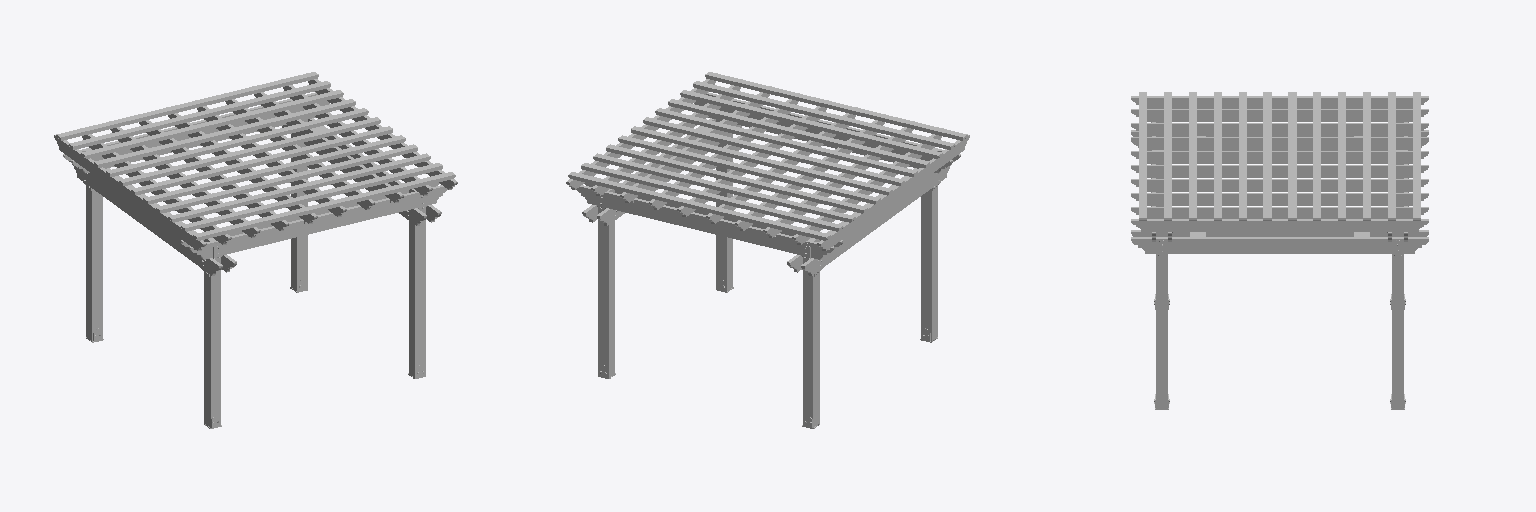
Rendered from santa-monica-12x12-classic.obj.
The picture shows the model from 3 angles: view 1: azimuth 30°, elevation 25°; view 2: azimuth 150°, elevation 25°; view 3: azimuth 270°, elevation 25°; orthographic projection.
Parts seen in each view (by area): view 1: Mesh126 Component_19_1 Group27 Group1 Model, Mesh165 Component_95_3 Group1 Model, Mesh178 Component_95_4 Group1 Model, Mesh164 Component_95_2 Group1 Model, Mesh186 Component_4_8 Group1 Model, Mesh179 Component_4_1 Group1 Model, Mesh182 Component_4_4 Group1 Model, Mesh190 Component_4_12 Group1 Model, Mesh180 Component_4_2 Group1 Model, Mesh188 Component_4_10 Group1 Model, Mesh189 Component_4_11 Group1 Model, Mesh181 Component_4_3 Group1 Model (+17 smaller); view 2: Mesh140 Component_19_3 Group33 Group1 Model, Mesh159 Component_95_1 Group1 Model, Mesh164 Component_95_2 Group1 Model, Mesh178 Component_95_4 Group1 Model, Mesh180 Component_4_2 Group1 Model, Mesh190 Component_4_12 Group1 Model, Mesh179 Component_4_1 Group1 Model, Mesh185 Component_4_7 Group1 Model, Mesh186 Component_4_8 Group1 Model, Mesh187 Component_4_9 Group1 Model, Mesh189 Component_4_11 Group1 Model, Mesh182 Component_4_4 Group1 Model (+17 smaller); view 3: Mesh158 Component_6_4 Group39 Group1 Model, Mesh146 Component_10_8 Group35 Group1 Model, Mesh152 Component_10_9 Group37 Group1 Model, Mesh105 Component_10_1 Group22 Group1 Model, Mesh110 Component_10_2 Group23 Group1 Model, Mesh115 Component_10_3 Group24 Group1 Model, Mesh120 Component_10_4 Group25 Group1 Model, Mesh125 Component_10_5 Group26 Group1 Model, Mesh131 Component_10_6 Group28 Group1 Model, Mesh157 Component_10_10 Group38 Group1 Model, Mesh139 Component_10_7 Group32 Group1 Model, Mesh159 Component_95_1 Group1 Model (+14 smaller).
Part boxes in pixels (bbox=[...]): Mesh126 Component_19_1 Group27 Group1 Model: bbox=[189, 185, 447, 259]; Mesh165 Component_95_3 Group1 Model: bbox=[409, 189, 425, 377]; Mesh178 Component_95_4 Group1 Model: bbox=[204, 238, 220, 427]; Mesh164 Component_95_2 Group1 Model: bbox=[86, 149, 102, 341]; Mesh186 Component_4_8 Group1 Model: bbox=[168, 153, 430, 222]; Mesh179 Component_4_1 Group1 Model: bbox=[143, 135, 405, 204]; Mesh182 Component_4_4 Group1 Model: bbox=[106, 108, 368, 176]; Mesh190 Component_4_12 Group1 Model: bbox=[81, 90, 343, 158]; Mesh180 Component_4_2 Group1 Model: bbox=[193, 172, 455, 240]; Mesh188 Component_4_10 Group1 Model: bbox=[69, 81, 330, 149]; Mesh189 Component_4_11 Group1 Model: bbox=[56, 72, 318, 140]; Mesh181 Component_4_3 Group1 Model: bbox=[131, 126, 392, 195]; Mesh140 Component_19_3 Group33 Group1 Model: bbox=[576, 185, 834, 259]; Mesh159 Component_95_1 Group1 Model: bbox=[598, 189, 614, 377]; Mesh164 Component_95_2 Group1 Model: bbox=[803, 238, 819, 427]; Mesh178 Component_95_4 Group1 Model: bbox=[921, 149, 937, 341]; Mesh180 Component_4_2 Group1 Model: bbox=[705, 72, 967, 140]; Mesh190 Component_4_12 Group1 Model: bbox=[593, 153, 855, 222]; Mesh179 Component_4_1 Group1 Model: bbox=[655, 108, 917, 176]; Mesh185 Component_4_7 Group1 Model: bbox=[668, 99, 929, 167]; Mesh186 Component_4_8 Group1 Model: bbox=[680, 90, 942, 158]; Mesh187 Component_4_9 Group1 Model: bbox=[606, 144, 867, 213]; Mesh189 Component_4_11 Group1 Model: bbox=[568, 172, 830, 240]; Mesh182 Component_4_4 Group1 Model: bbox=[618, 135, 880, 204]; Mesh158 Component_6_4 Group39 Group1 Model: bbox=[1131, 237, 1428, 253]; Mesh146 Component_10_8 Group35 Group1 Model: bbox=[1131, 219, 1428, 231]; Mesh152 Component_10_9 Group37 Group1 Model: bbox=[1131, 96, 1428, 108]; Mesh105 Component_10_1 Group22 Group1 Model: bbox=[1131, 165, 1428, 177]; Mesh110 Component_10_2 Group23 Group1 Model: bbox=[1131, 123, 1428, 135]; Mesh115 Component_10_3 Group24 Group1 Model: bbox=[1131, 179, 1428, 191]; Mesh120 Component_10_4 Group25 Group1 Model: bbox=[1131, 193, 1428, 205]; Mesh125 Component_10_5 Group26 Group1 Model: bbox=[1131, 137, 1428, 149]; Mesh131 Component_10_6 Group28 Group1 Model: bbox=[1131, 151, 1428, 163]; Mesh157 Component_10_10 Group38 Group1 Model: bbox=[1131, 109, 1428, 121]; Mesh139 Component_10_7 Group32 Group1 Model: bbox=[1131, 207, 1428, 218]; Mesh159 Component_95_1 Group1 Model: bbox=[1392, 232, 1403, 409].
Bounding box in the file's own units: 144 × 108 × 144.